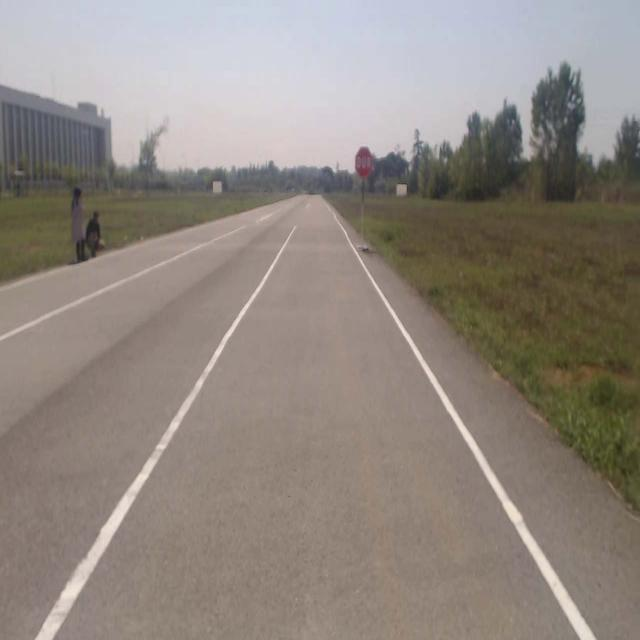dur: (355, 146, 373, 178)
